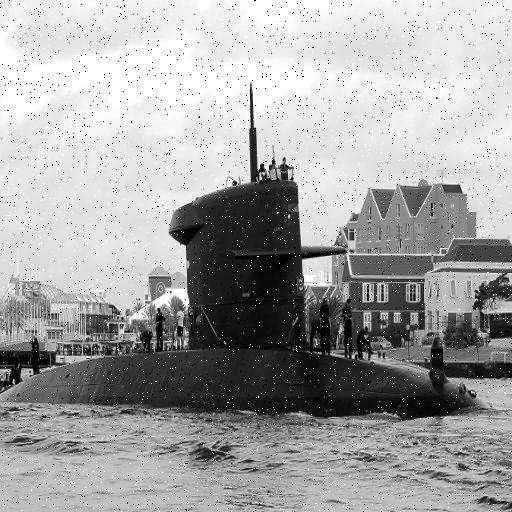submarine: (1, 173, 497, 413)
